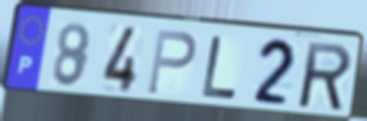2: (250, 35, 299, 109)
4: (99, 23, 140, 96)
8: (50, 21, 93, 89)
L: (200, 33, 241, 101)
P: (145, 27, 199, 98)
R: (298, 39, 354, 114)
